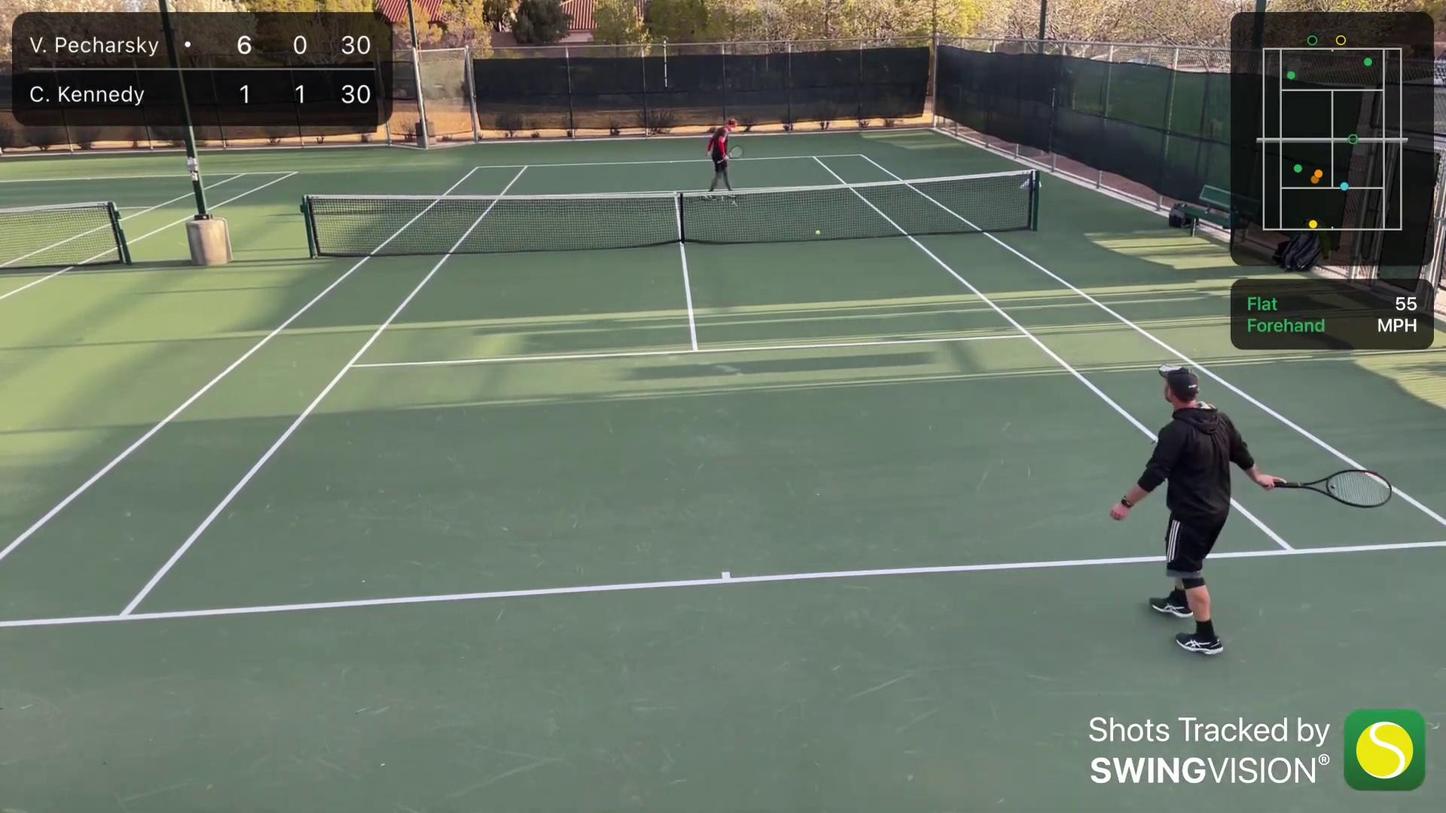ball: (813, 229, 822, 236)
